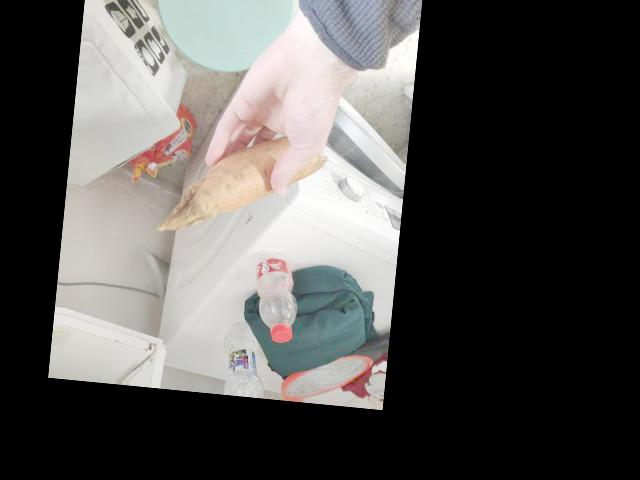sweet_potato: (199, 133, 301, 219)
